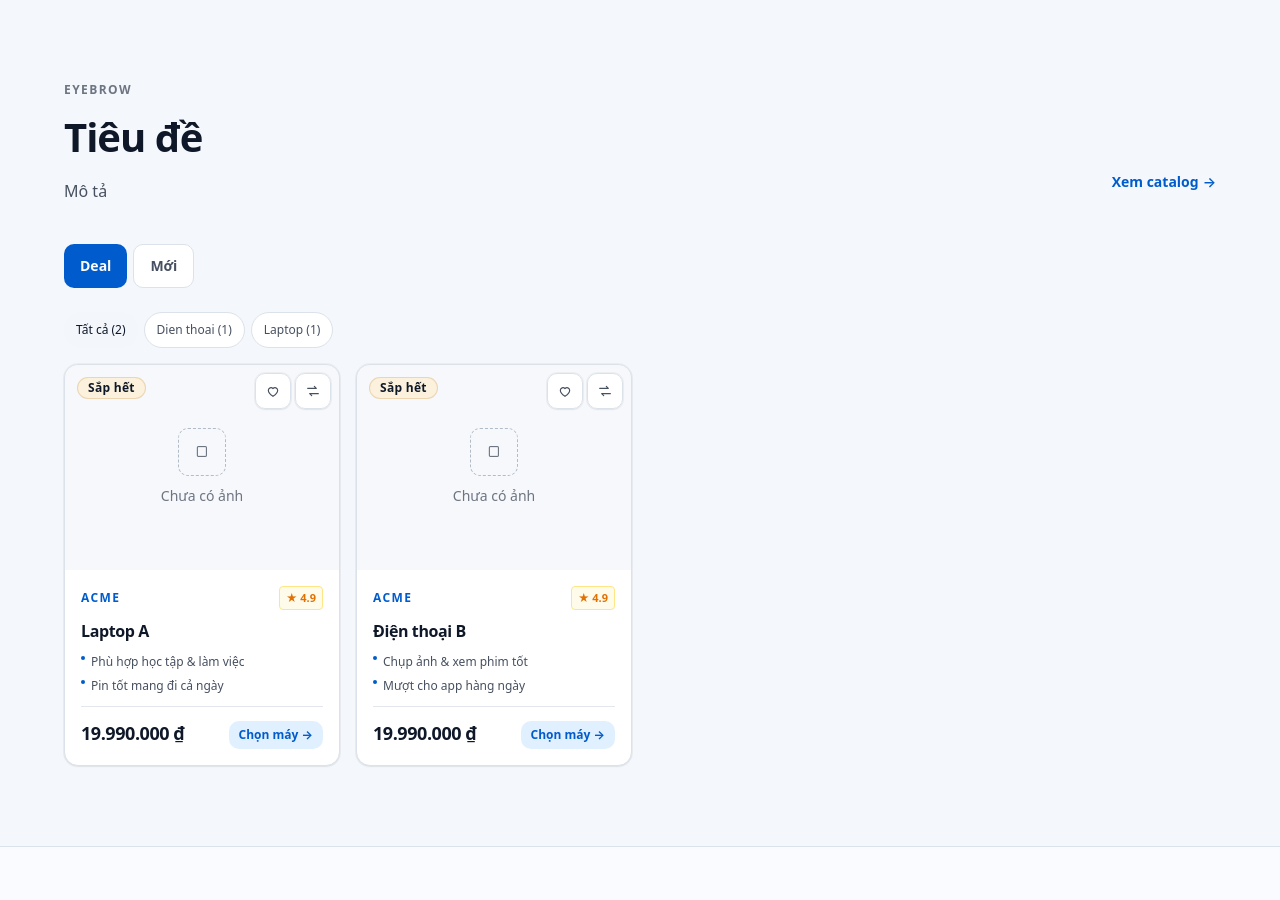
Test: DealTabsSection › switches the panel content on click
Expected: the link "Laptop A" is shown, [81,620,149,642]
Click the tab "Mới" at (164, 266), box [133,244,194,288]
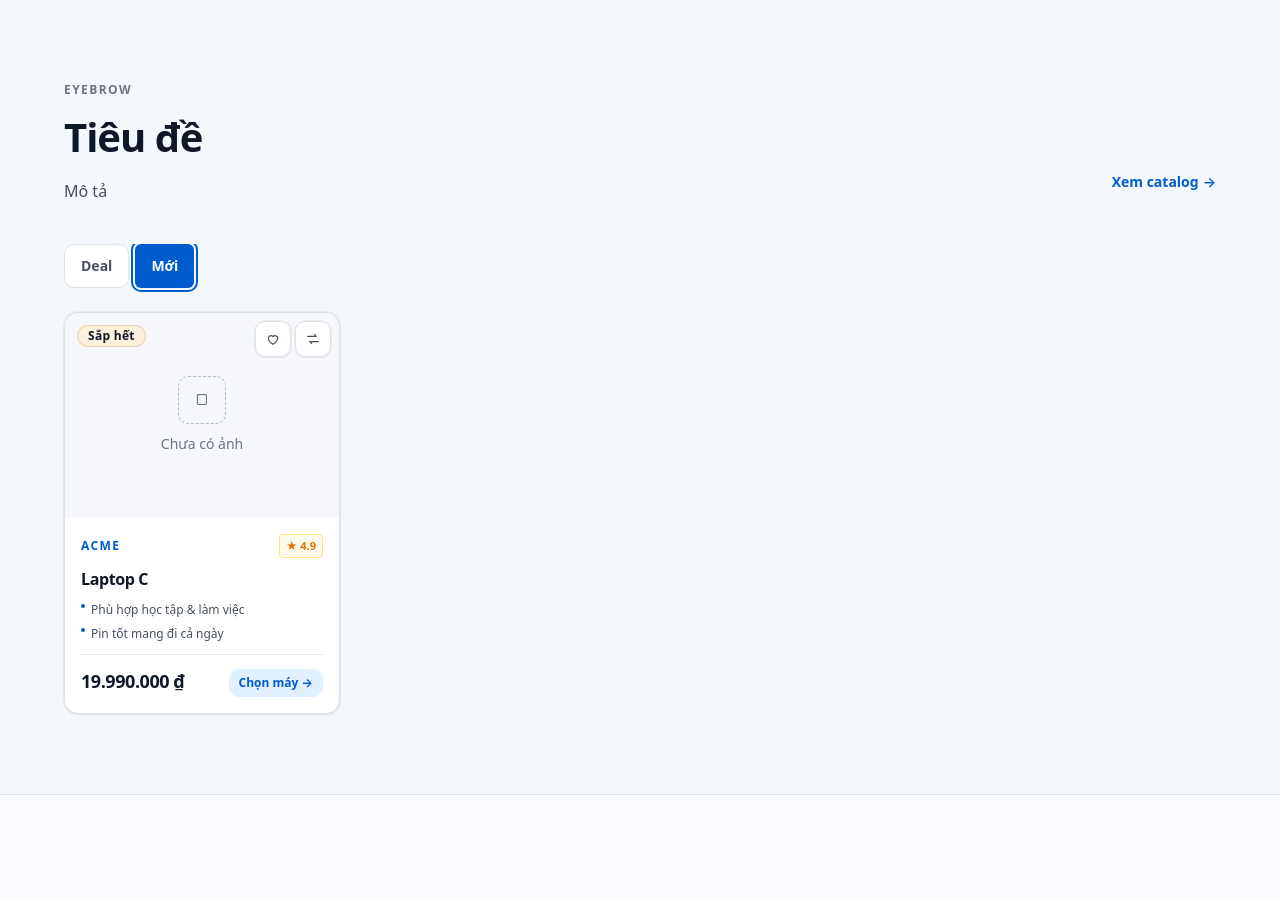
Expected: the link "Laptop C" is shown, [81,568,148,590]
Expected: the link "Laptop A" is gone
